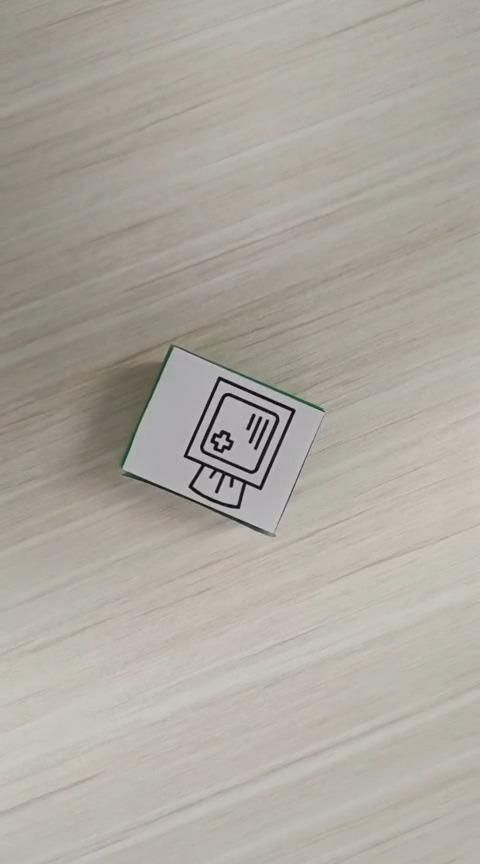Gauze: (119, 342, 326, 537)
